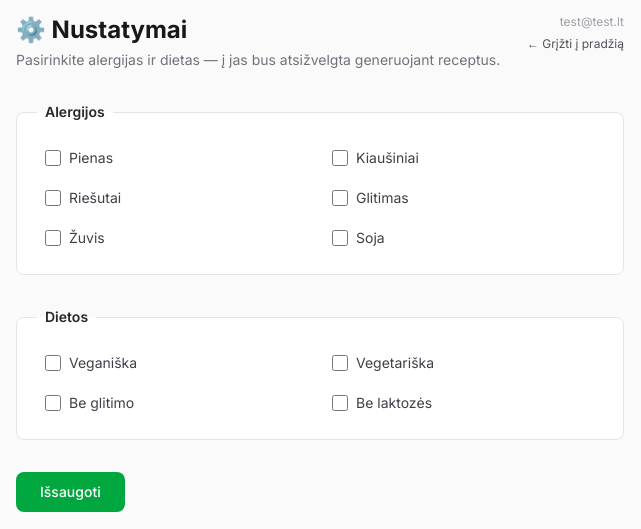
Test case: SettingsPage › AC-2: Išsaugojimas veikia › pažymėjus checkbox'us ir spaudus 'Išsaugoti' duomenys išsaugomi
Click the checkbox labelled "Pienas" at (53, 158), box [45,150,61,166]
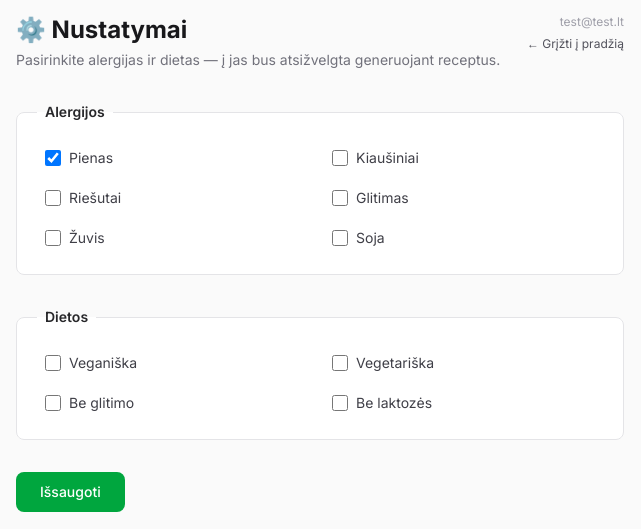
Click the checkbox labelled "Veganiška" at (53, 363), box [45,355,61,371]
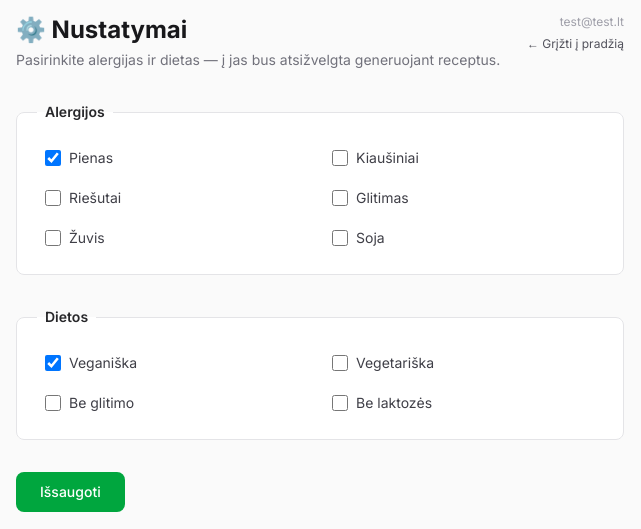
Click the button "Išsaugoti" at (70, 492), box [16,472,125,512]
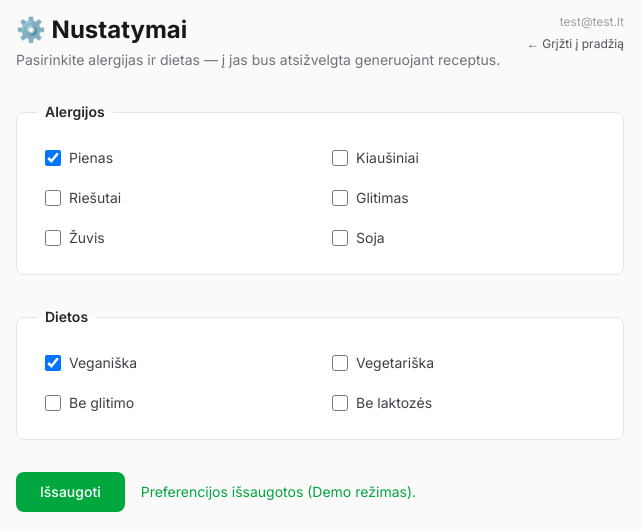
Result: the message "Preferencijos išsaugotos (Demo režimas)." is shown at [141,482,416,502]
Result: the message shows "išsaugotos" at [141,483,416,500]
